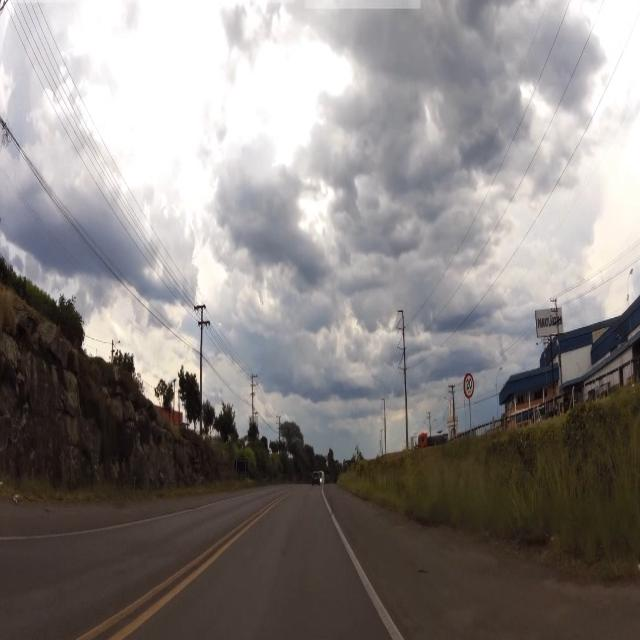R-19: (464, 372, 474, 399)
